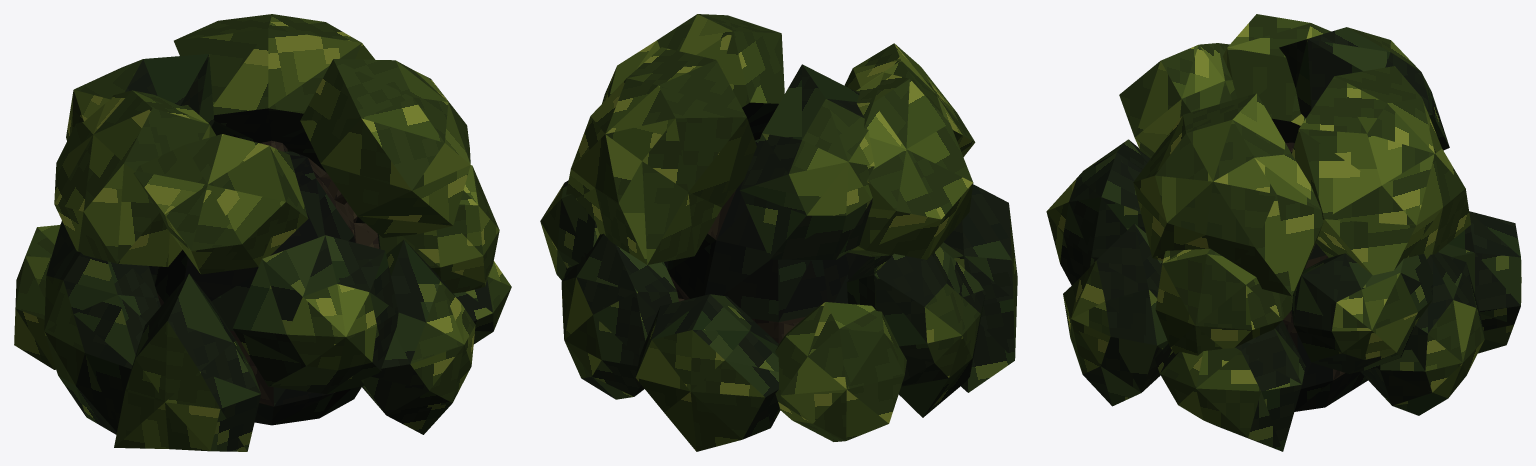
The model's file is forest_bush_tall.glb.
The picture shows the model from 3 angles, left to right: view 1: azimuth 30°, elevation 25°; view 2: azimuth 150°, elevation 25°; view 3: azimuth 270°, elevation 25°; orthographic projection. The views are drawn at different scales.
Parts seen in each view (by area): view 1: ForestBush; view 2: ForestBush; view 3: ForestBush.
Boxes of the visible parts, box(x1,y1,x2,y2) form: ForestBush: box(14, 14, 511, 451); ForestBush: box(540, 14, 1017, 451); ForestBush: box(1046, 14, 1521, 451).
Size of what is drawn, in the model's own units: 2.83 by 2.2 by 3.
Materials: 1 (1 with a texture image).
